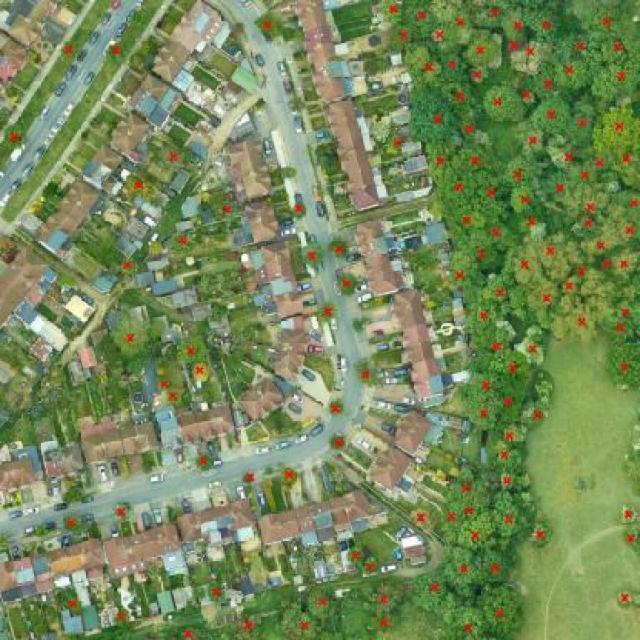tree: (393, 80, 465, 155), (448, 502, 507, 563), (477, 575, 529, 640), (437, 531, 480, 603), (548, 298, 604, 353), (584, 95, 640, 149), (530, 224, 578, 285), (471, 538, 526, 590), (491, 484, 529, 558), (470, 82, 530, 126), (584, 59, 640, 106), (412, 569, 463, 620), (498, 241, 551, 290), (503, 40, 563, 82), (107, 315, 159, 363), (521, 272, 562, 332), (425, 170, 486, 210), (486, 345, 546, 385), (472, 439, 536, 476), (479, 169, 521, 225), (601, 340, 640, 400), (452, 392, 505, 436), (457, 230, 511, 273), (490, 374, 532, 429), (592, 22, 640, 70), (459, 290, 510, 335), (601, 180, 640, 237), (437, 601, 493, 640), (552, 185, 618, 218), (435, 198, 488, 239), (350, 574, 407, 612), (532, 88, 569, 145), (571, 0, 638, 31), (519, 0, 566, 43), (422, 138, 460, 191), (479, 420, 536, 455), (470, 322, 515, 366), (493, 157, 542, 195), (555, 54, 600, 95), (478, 214, 524, 254), (512, 324, 552, 370), (604, 284, 640, 335), (440, 259, 485, 299), (507, 122, 548, 165), (439, 73, 483, 113), (597, 317, 637, 361), (489, 466, 545, 497), (402, 0, 444, 40), (436, 494, 467, 548), (438, 472, 499, 499), (450, 141, 496, 176), (292, 235, 329, 278), (468, 0, 519, 31), (606, 151, 640, 197), (580, 229, 625, 263), (467, 362, 528, 387), (498, 0, 533, 43), (283, 606, 326, 640), (460, 35, 502, 69), (307, 584, 339, 628), (248, 8, 288, 43), (556, 259, 587, 304), (542, 131, 576, 172), (428, 49, 470, 82), (538, 165, 577, 200), (447, 13, 481, 53), (395, 42, 435, 76), (379, 22, 416, 58), (606, 243, 640, 282), (553, 31, 598, 60), (509, 209, 551, 240), (516, 398, 553, 432), (579, 145, 612, 183), (458, 485, 494, 519), (156, 141, 192, 174), (526, 515, 557, 553), (174, 334, 211, 365), (371, 0, 412, 26), (348, 362, 386, 390), (122, 172, 156, 203), (611, 579, 640, 615), (422, 0, 473, 20), (587, 254, 619, 285), (362, 612, 402, 636), (230, 612, 265, 639), (415, 57, 447, 86), (0, 121, 31, 150), (515, 80, 544, 111), (332, 272, 365, 299), (492, 32, 528, 56), (462, 62, 495, 88), (185, 451, 222, 474), (56, 509, 87, 536), (323, 235, 354, 262), (200, 579, 231, 606), (165, 230, 197, 256), (409, 500, 435, 532), (421, 25, 457, 48), (621, 449, 640, 490), (341, 540, 368, 568), (368, 118, 397, 144), (154, 386, 191, 405), (385, 127, 410, 155), (275, 466, 306, 488), (620, 521, 640, 555), (57, 36, 81, 64), (213, 197, 241, 221), (615, 499, 640, 525), (359, 553, 384, 579), (189, 359, 213, 386), (107, 608, 136, 630), (62, 592, 88, 616), (171, 623, 207, 640), (117, 256, 140, 279), (57, 489, 88, 506), (314, 302, 340, 322), (322, 400, 350, 418), (326, 434, 351, 454), (288, 198, 310, 220), (111, 502, 131, 524), (241, 469, 259, 489), (155, 375, 175, 393)
